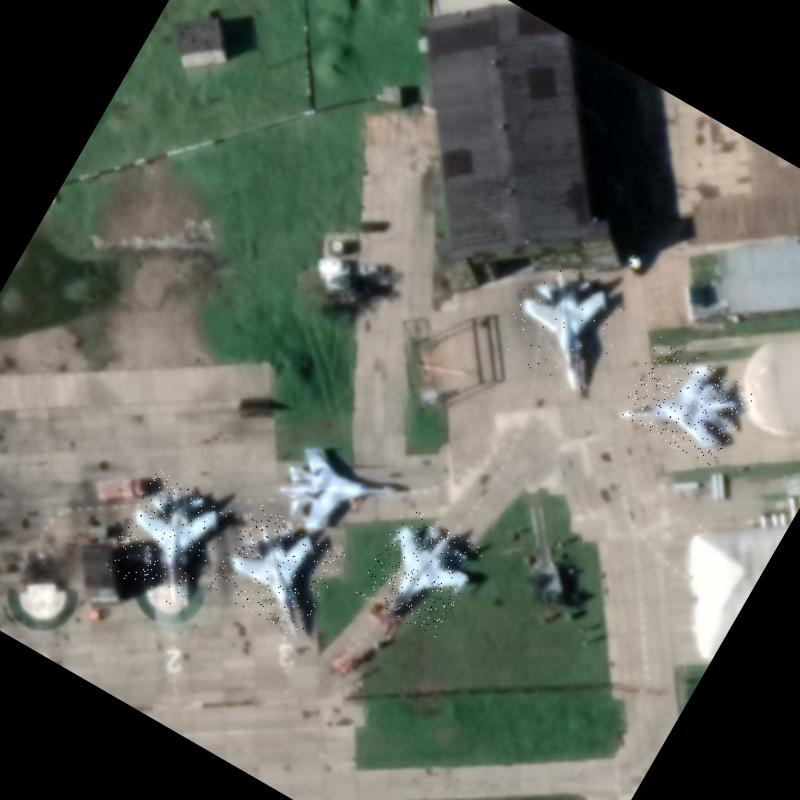A1: (262, 424, 416, 568), (490, 252, 636, 399), (207, 502, 347, 640), (101, 469, 235, 612), (616, 337, 756, 470), (354, 504, 486, 640)
